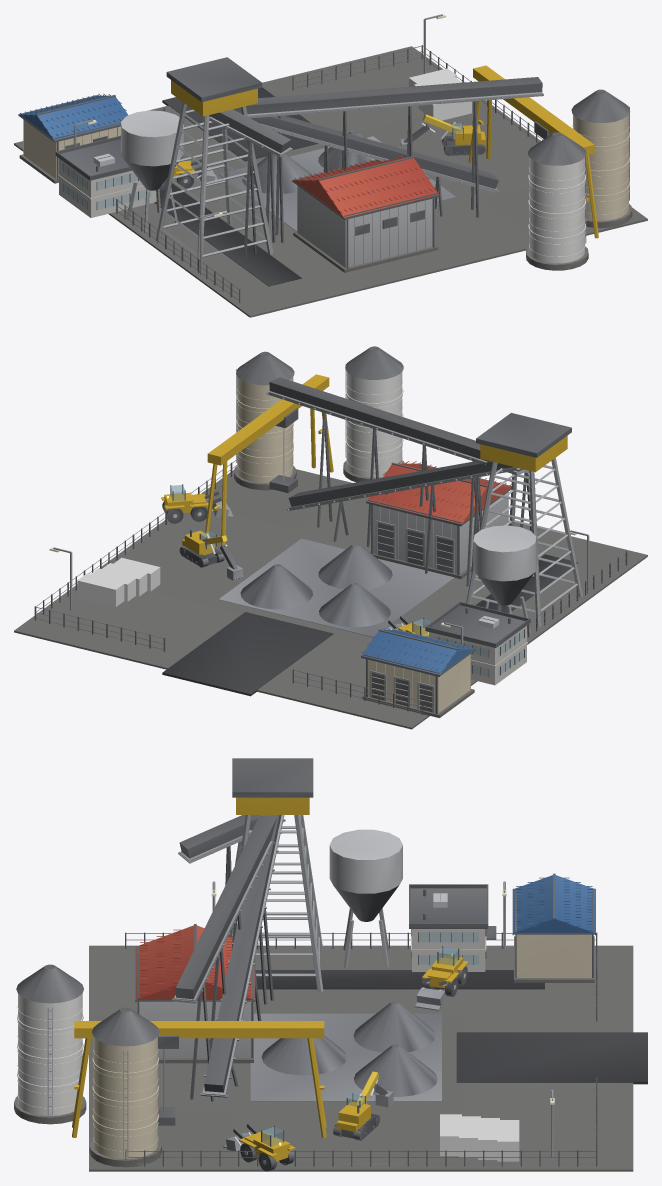
Rendered from Depot_P2.fbx.
3 renders of one model, top to bottom at view 1: azimuth 30°, elevation 25°; view 2: azimuth 150°, elevation 25°; view 3: azimuth 270°, elevation 25°, orthographic. The views are drawn at different scales.
Parts seen in each view (by area): view 1: Depot.Yard, Depot.Shed1, Depot.Tower, Depot.ConvB, Depot.Silo1, Depot.Silo0, Depot.Shed2, Depot.Office, Depot.ConvMain, Depot.Hopper, Depot.Gantry, Depot.ConvA (+6 smaller); view 2: Depot.Yard, Depot.Shed1, Depot.Tower, Depot.Shed2, Depot.ConvB, Depot.Silo1, Depot.Silo0, Depot.Office, Depot.ConvMain, Depot.Hopper, Depot.Gantry, Depot.Fence (+6 smaller); view 3: Depot.Yard, Depot.Silo0, Depot.Silo1, Depot.Tower, Depot.Shed2, Depot.Shed1, Depot.ConvB, Depot.Office, Depot.ConvMain, Depot.Hopper, Depot.Gantry, Depot.Fence (+8 smaller).
Boxes of the visible parts, left/top/right/bottom form: Depot.Yard: left=14, top=46, right=647, bottom=317; Depot.Shed1: left=292, top=154, right=439, bottom=272; Depot.Tower: left=155, top=57, right=273, bottom=271; Depot.ConvB: left=233, top=77, right=543, bottom=242; Depot.Silo1: left=526, top=132, right=588, bottom=270; Depot.Silo0: left=571, top=89, right=632, bottom=227; Depot.Shed2: left=18, top=93, right=128, bottom=183; Depot.Office: left=55, top=135, right=156, bottom=217; Depot.ConvMain: left=250, top=115, right=498, bottom=242; Depot.Hopper: left=121, top=110, right=183, bottom=233; Depot.Gantry: left=468, top=65, right=598, bottom=238; Depot.ConvA: left=209, top=109, right=292, bottom=260; Depot.Yard: left=14, top=469, right=647, bottom=729; Depot.Shed1: left=366, top=461, right=511, bottom=579; Depot.Tower: left=466, top=413, right=582, bottom=627; Depot.Shed2: left=361, top=628, right=475, bottom=717; Depot.ConvB: left=266, top=377, right=524, bottom=586; Depot.Silo1: left=343, top=346, right=404, bottom=482; Depot.Silo0: left=234, top=351, right=296, bottom=490; Depot.Office: left=425, top=601, right=530, bottom=685; Depot.ConvMain: left=287, top=461, right=520, bottom=573; Depot.Hopper: left=473, top=525, right=536, bottom=635; Depot.Gantry: left=205, top=374, right=333, bottom=550; Depot.Fence: left=34, top=459, right=627, bottom=714; Depot.Yard: left=89, top=945, right=647, bottom=1171; Depot.Silo0: left=89, top=1007, right=161, bottom=1167; Depot.Silo1: left=14, top=964, right=86, bottom=1124; Depot.Tower: left=228, top=758, right=323, bottom=991; Depot.Shed2: left=512, top=873, right=595, bottom=982; Depot.Shed1: left=135, top=924, right=255, bottom=1063; Depot.ConvB: left=172, top=815, right=285, bottom=1101; Depot.Office: left=409, top=884, right=496, bottom=971; Depot.ConvMain: left=200, top=815, right=284, bottom=1097; Depot.Hopper: left=329, top=829, right=402, bottom=967; Depot.Gantry: left=72, top=1021, right=326, bottom=1137; Depot.Fence: left=125, top=932, right=597, bottom=1166.
Bounding box in the file's own units: 7761 × 2966 × 8620.
